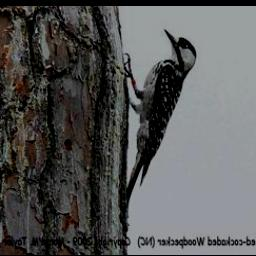Woodpecker: (121, 28, 199, 219)
